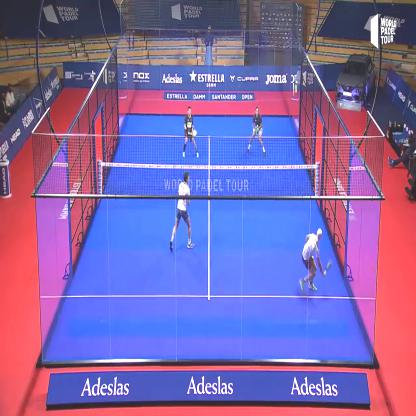ball: (293, 84, 298, 98)
